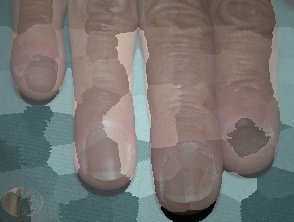Nail_psoriasis: (152, 129, 224, 213), (215, 97, 291, 173), (8, 38, 76, 104), (78, 111, 138, 185)
